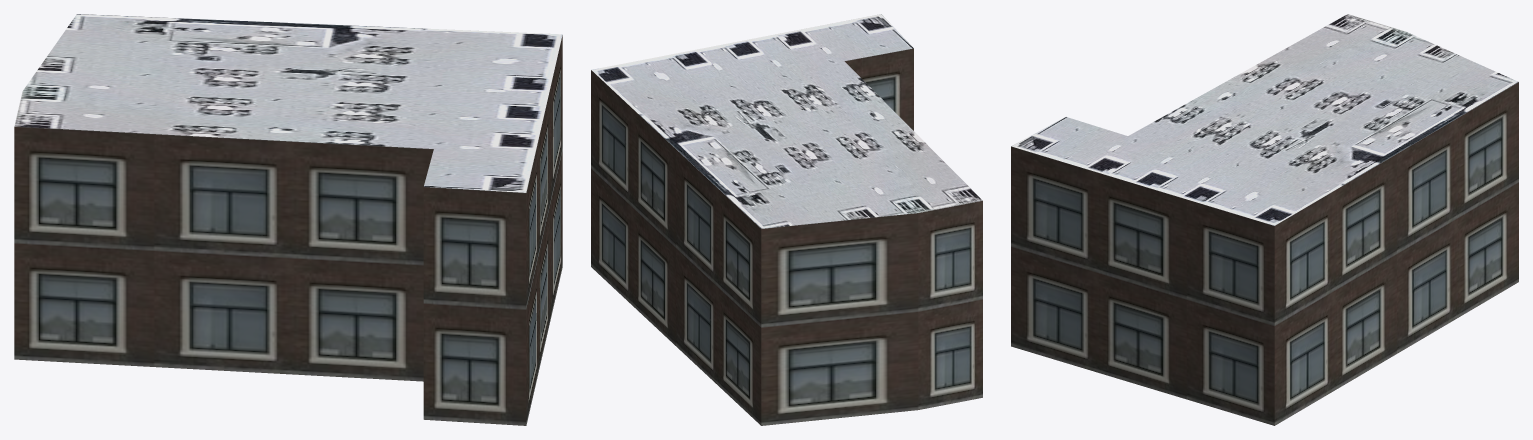
The model's file is ResTex__197.fbx.
The picture shows the model from 3 angles, left to right: view 1: azimuth 30°, elevation 25°; view 2: azimuth 150°, elevation 25°; view 3: azimuth 270°, elevation 25°; orthographic projection. The views are drawn at different scales.
Parts seen in each view (by area): view 1: CityEngineMaterial_16_m, CityEngineMaterial_15_m; view 2: CityEngineMaterial_16_m, CityEngineMaterial_15_m; view 3: CityEngineMaterial_16_m, CityEngineMaterial_15_m.
Part boxes in pixels (x1,y1,x2,y2): CityEngineMaterial_16_m: (14, 35, 562, 425); CityEngineMaterial_15_m: (14, 14, 562, 192); CityEngineMaterial_16_m: (591, 48, 982, 425); CityEngineMaterial_15_m: (591, 14, 982, 228); CityEngineMaterial_16_m: (1011, 82, 1518, 425); CityEngineMaterial_15_m: (1011, 14, 1518, 225).
Size of the model in its own units: 13.63 by 6 by 13.81.
2 materials, 2 textured.
